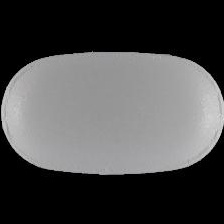69189-0174: (0, 0, 224, 224)
